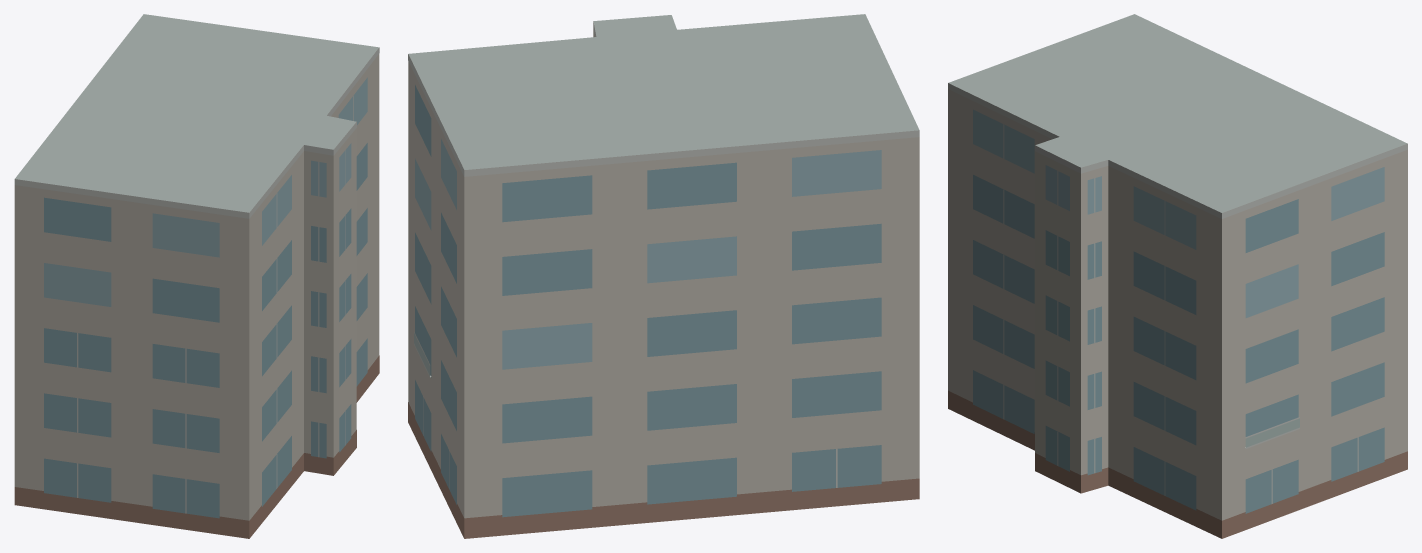
Rendered from survey-upis-32889563.glb.
3 views of the same model, side by side, from view 1: azimuth 30°, elevation 25°; view 2: azimuth 150°, elevation 25°; view 3: azimuth 270°, elevation 25° (orthographic). The views are drawn at different scales.
Visible parts, largest first — view 1: survey-upis-32889563.tmp; view 2: survey-upis-32889563.tmp; view 3: survey-upis-32889563.tmp.
Part boxes in pixels (<box>): survey-upis-32889563.tmp: <box>14,14,379,538</box>; survey-upis-32889563.tmp: <box>408,14,919,538</box>; survey-upis-32889563.tmp: <box>948,14,1407,538</box>.
Size of the model in its own units: 17.44 by 13.3 by 17.02.
